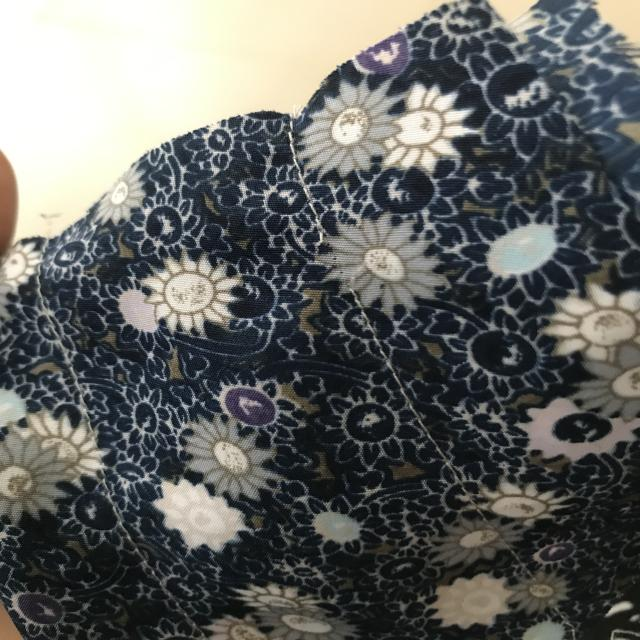broken: (306, 218, 376, 313)
